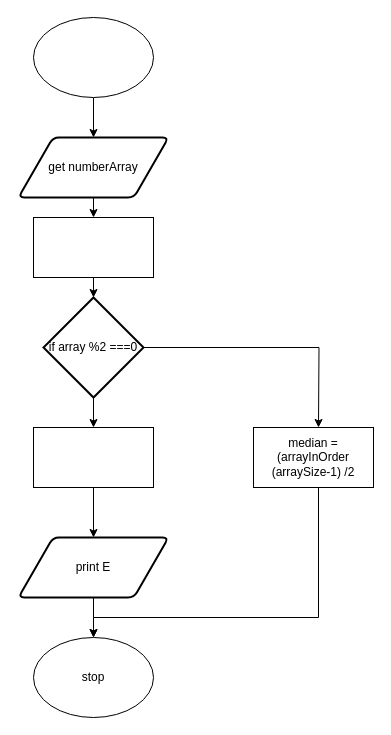
This 391x735 diagram has some shape labels left out. The box of each missing label's shape, as (x1, y1, x2, y2) in pixels:
median = (arrayInOrder (arraySize/2)+ arrayInOrder /2 -1) /2: (32, 426, 154, 488)
median = 0: (32, 216, 154, 278)
start: (32, 16, 154, 98)
